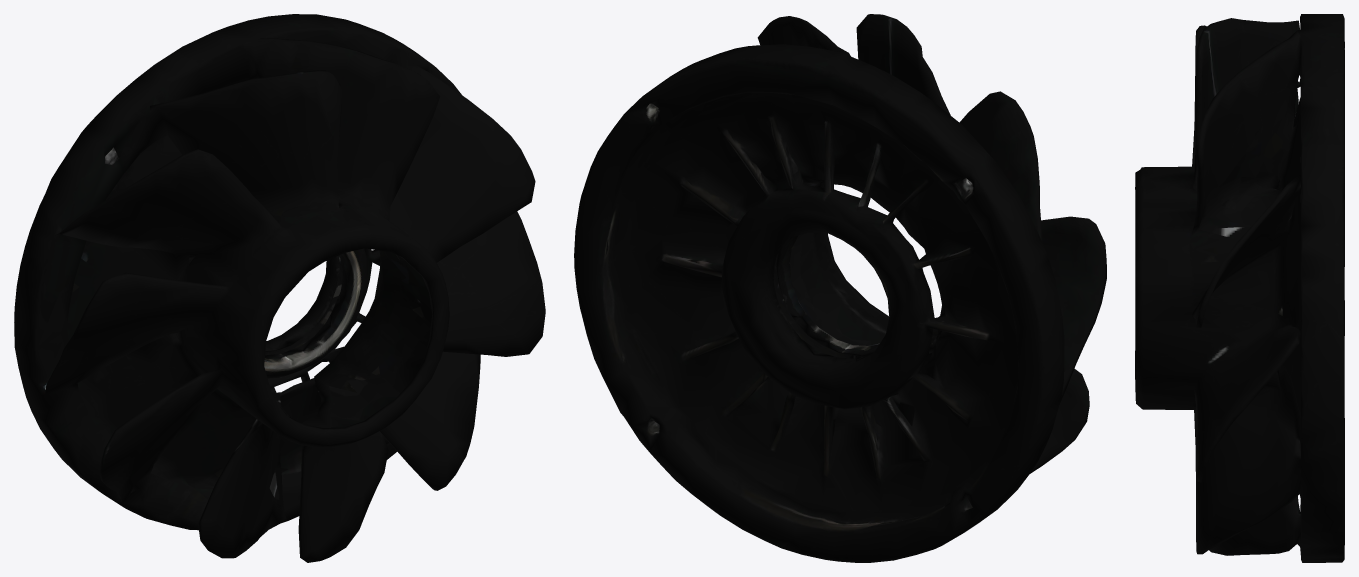
Rendered from Propeller_Blueprint_0604114043_texture.glb.
3 views of the same model, side by side, from view 1: azimuth 30°, elevation 25°; view 2: azimuth 150°, elevation 25°; view 3: azimuth 270°, elevation 25° (orthographic).
Size of the model in its own units: 2 by 2 by 0.7622.
Materials: 1 (1 with a texture image).
